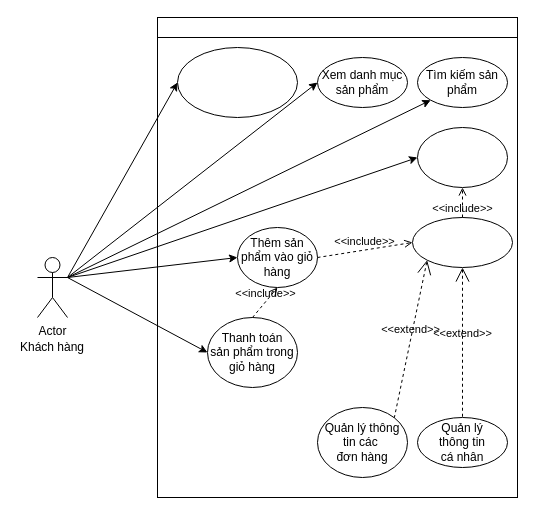
This 535x515 diagram has some shape labels left out. Each missing label, with the box of its shape:
SYSTEM: (156, 16, 518, 38)
Xem sản phẩm và thông tin chi tiết sản phẩm: (176, 46, 298, 118)
Đăng ký thành viên: (416, 126, 508, 188)
Đăng nhập: (412, 216, 512, 268)
